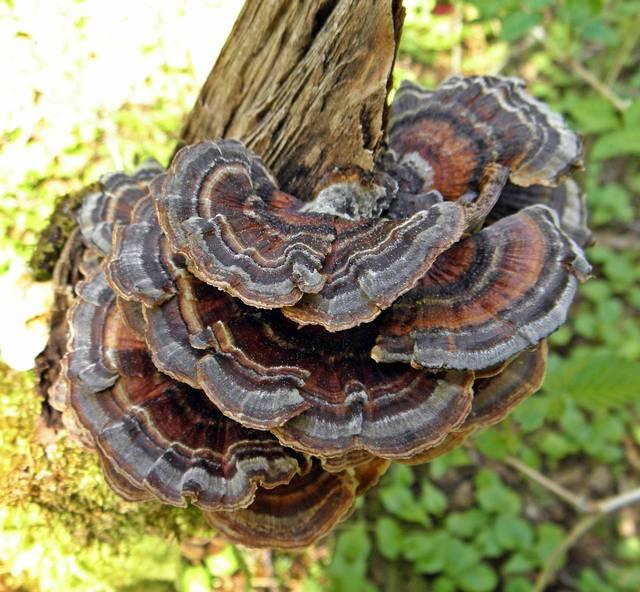Non-edible Mushroom: (38, 72, 594, 551)
